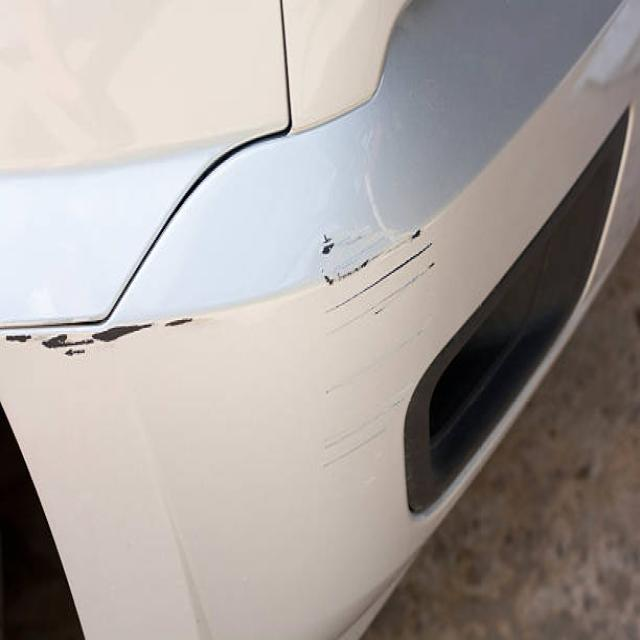scratch: (304, 211, 442, 470), (4, 306, 226, 397)
